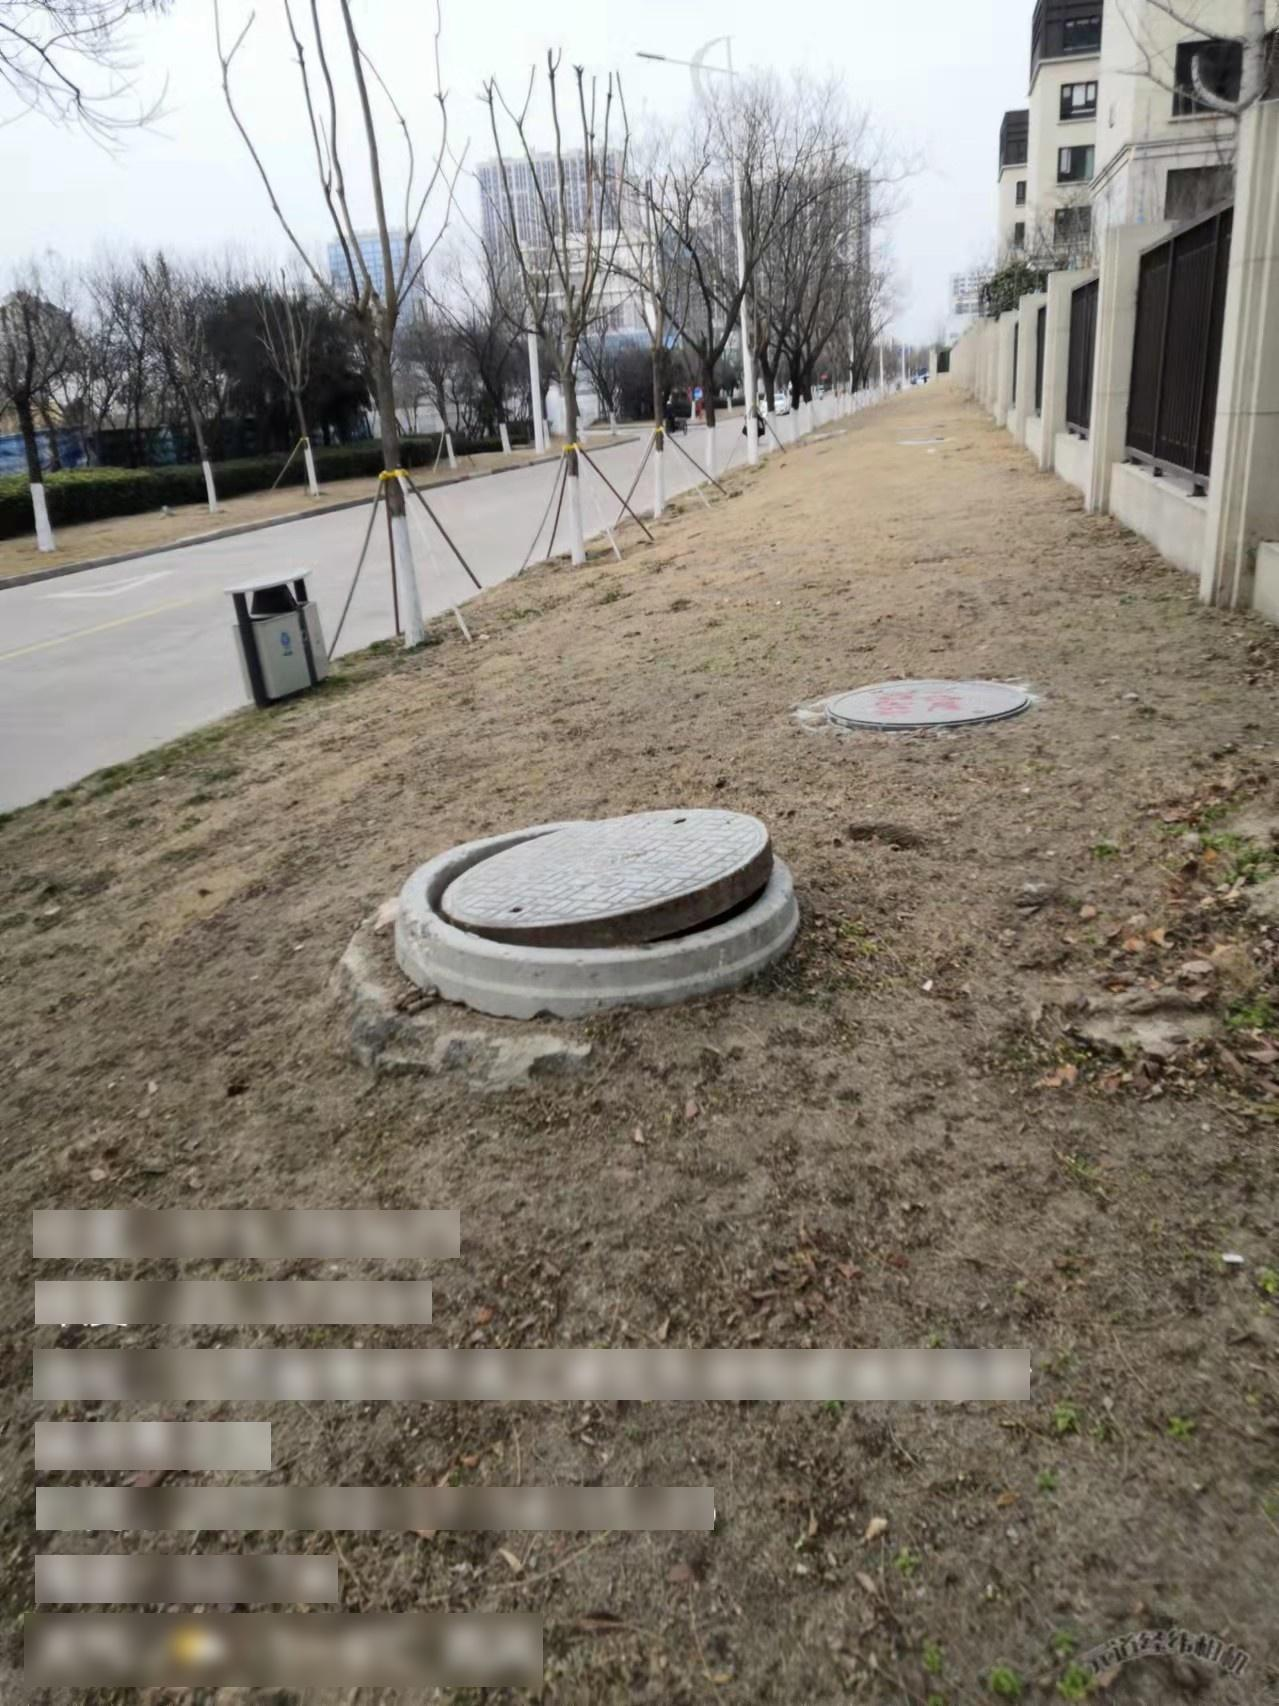wellcover: (404, 784, 815, 1042), (781, 645, 1053, 747)
